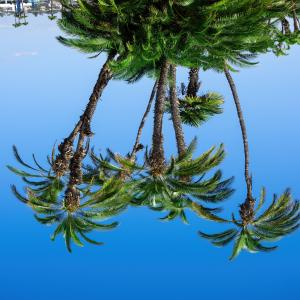palm tree: (6, 0, 300, 259)
